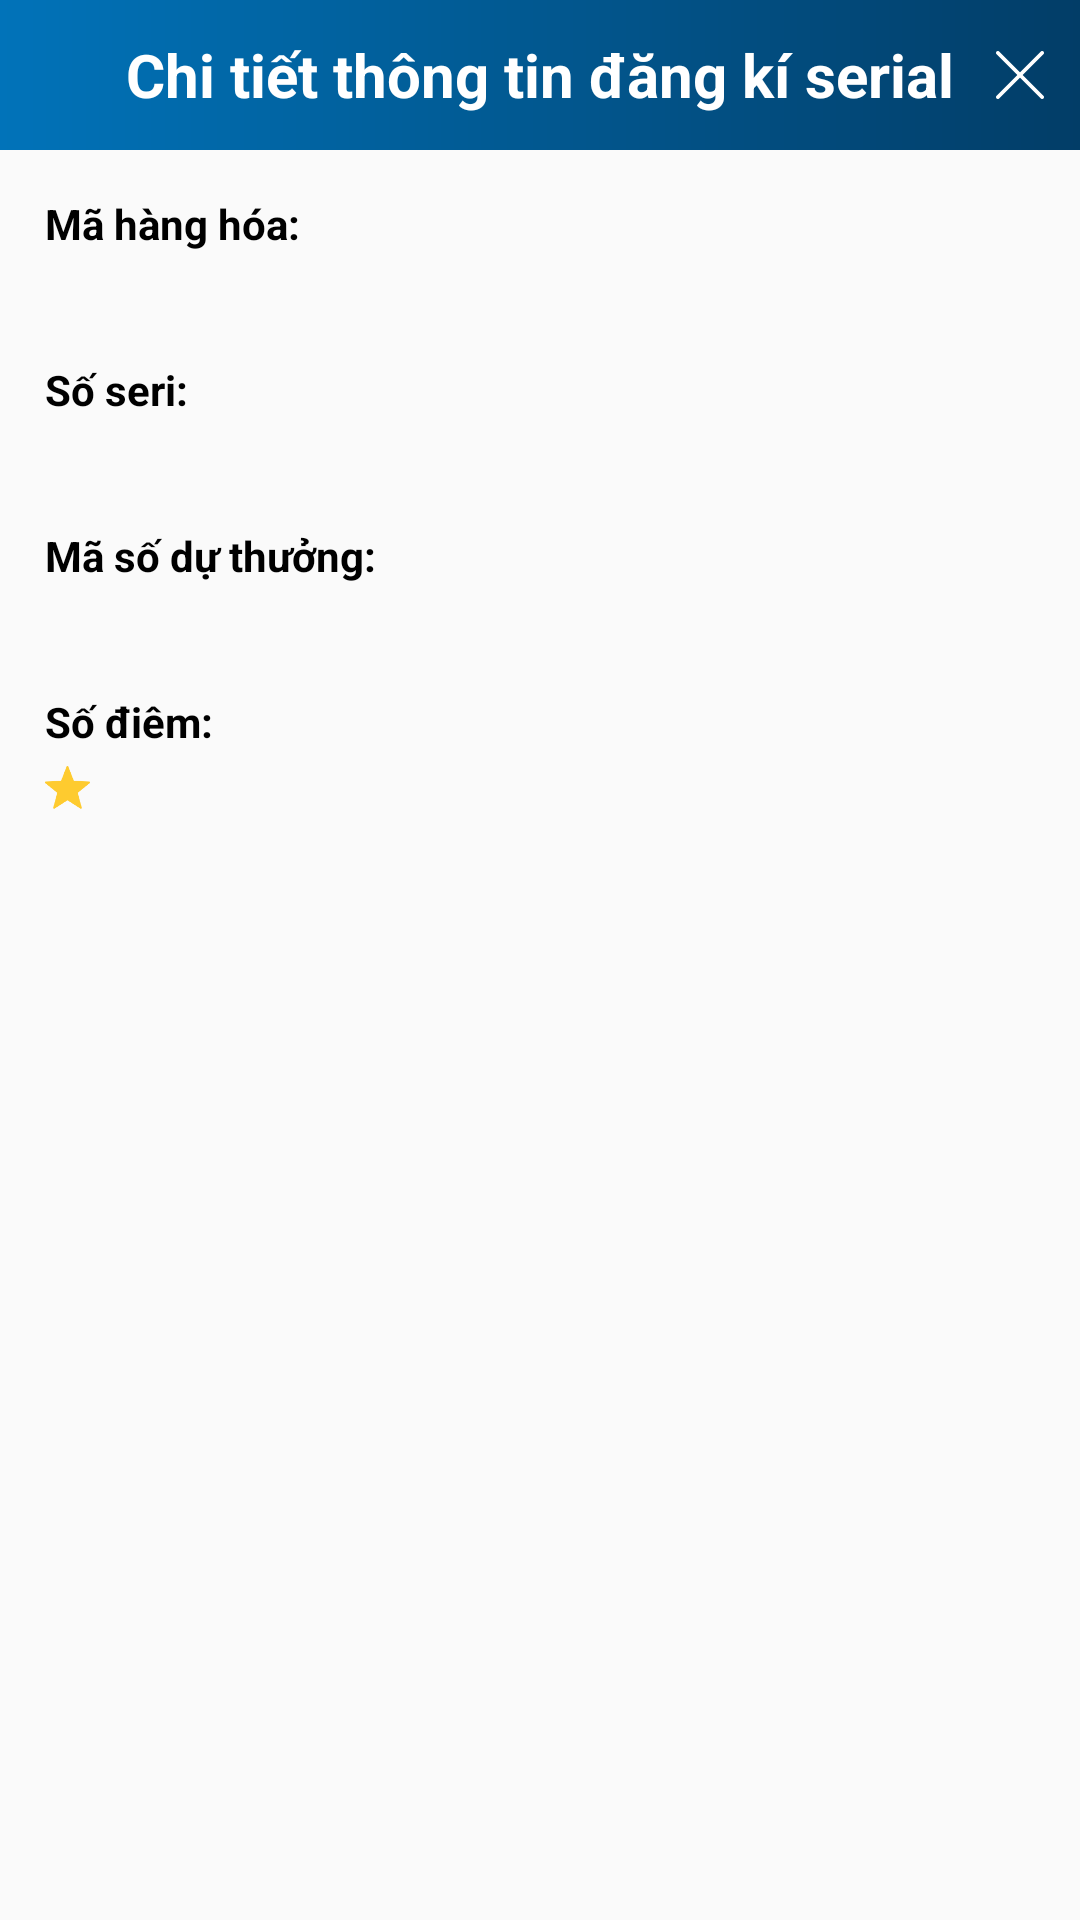

Icon bounding boxes for this 1080*1920 phone screenshot, format (x1, y1, x2, y2):
star: (45, 766, 90, 809)
